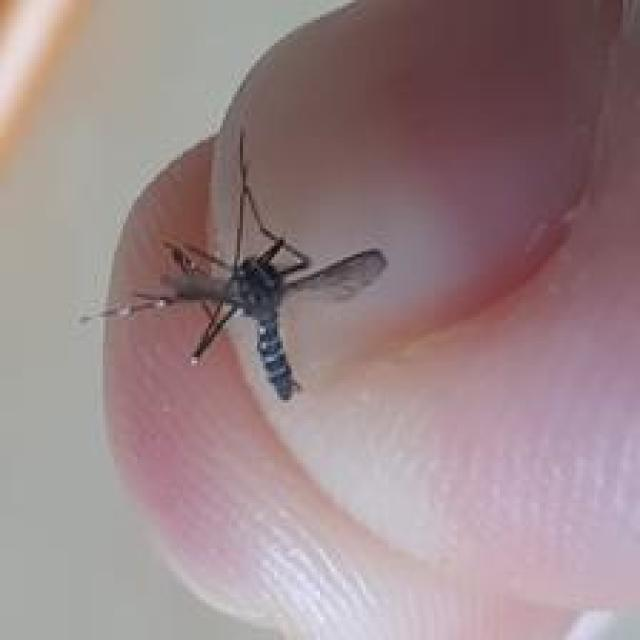Aedes albopictus: (77, 127, 389, 402)
